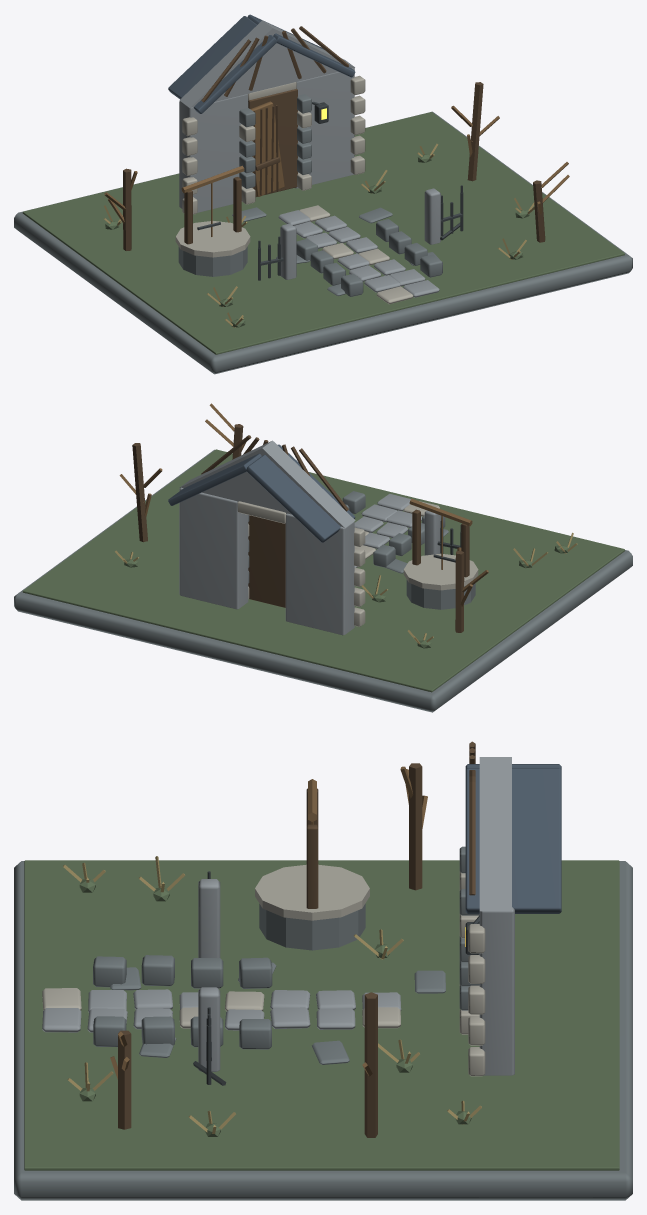
The model's file is asset.glb.
The picture shows the model from 3 angles, top to bottom: view 1: azimuth 30°, elevation 25°; view 2: azimuth 150°, elevation 25°; view 3: azimuth 270°, elevation 25°; orthographic projection. The views are drawn at different scales.
Parts seen in each view (by area): view 1: Courtyard_Earth, Diorama_Base, Chapel_Facade_Wing, Gable_Front, Chapel_Facade_Wing.001, Broken_Slate_Roof, Entry_Recess, Well_Rim, Door_Leaf, Well_Bowl, Broken_Slate_Roof.001, Gate_Post.001 (+4 smaller); view 2: Courtyard_Earth, Diorama_Base, Chapel_Facade_Wing.001, Chapel_Facade_Wing, Gable_Front, Entry_Recess, Broken_Slate_Roof, Well_Rim, Well_Bowl, Broken_Slate_Roof.001, Dead_Tree_Trunk.001, Dead_Tree_Trunk (+3 smaller); view 3: Courtyard_Earth, Diorama_Base, Broken_Slate_Roof.001, Chapel_Facade_Wing.001, Gable_Front, Well_Rim, Well_Bowl, Dead_Tree_Trunk.001, Gate_Post, Dead_Tree_Trunk, Gate_Post.001, Dead_Tree_Trunk.002 (+20 smaller).
Boxes of the visible parts, bbox=[...] form: Courtyard_Earth: bbox=[22, 112, 624, 354]; Diorama_Base: bbox=[14, 111, 632, 374]; Chapel_Facade_Wing: bbox=[179, 94, 248, 212]; Gable_Front: bbox=[179, 20, 354, 107]; Chapel_Facade_Wing.001: bbox=[295, 68, 354, 188]; Broken_Slate_Roof: bbox=[168, 16, 276, 113]; Entry_Recess: bbox=[248, 88, 297, 196]; Well_Rim: bbox=[175, 221, 250, 257]; Door_Leaf: bbox=[250, 101, 284, 196]; Well_Bowl: bbox=[178, 246, 247, 276]; Broken_Slate_Roof.001: bbox=[247, 14, 355, 77]; Gate_Post.001: bbox=[424, 188, 440, 244]; Courtyard_Earth: bbox=[22, 449, 624, 692]; Diorama_Base: bbox=[14, 449, 632, 712]; Chapel_Facade_Wing.001: bbox=[179, 487, 248, 609]; Chapel_Facade_Wing: bbox=[285, 513, 354, 635]; Gable_Front: bbox=[179, 440, 355, 527]; Entry_Recess: bbox=[248, 515, 285, 607]; Broken_Slate_Roof: bbox=[246, 444, 355, 542]; Well_Rim: bbox=[403, 553, 478, 590]; Well_Bowl: bbox=[406, 580, 475, 609]; Broken_Slate_Roof.001: bbox=[168, 453, 261, 505]; Dead_Tree_Trunk.001: bbox=[132, 443, 147, 542]; Dead_Tree_Trunk: bbox=[455, 550, 464, 632]; Courtyard_Earth: bbox=[24, 860, 619, 1170]; Diorama_Base: bbox=[14, 861, 632, 1200]; Broken_Slate_Roof.001: bbox=[465, 768, 561, 913]; Chapel_Facade_Wing.001: bbox=[479, 907, 514, 1075]; Gable_Front: bbox=[479, 757, 511, 911]; Well_Rim: bbox=[255, 864, 369, 920]; Well_Bowl: bbox=[259, 903, 365, 950]; Dead_Tree_Trunk.001: bbox=[364, 992, 377, 1137]; Gate_Post: bbox=[198, 879, 220, 957]; Dead_Tree_Trunk: bbox=[409, 763, 422, 890]; Gate_Post.001: bbox=[198, 987, 220, 1071]; Dead_Tree_Trunk.002: bbox=[118, 1030, 131, 1129].
Bounding box in the file's own units: 10.2 × 4.31 × 8.4.
